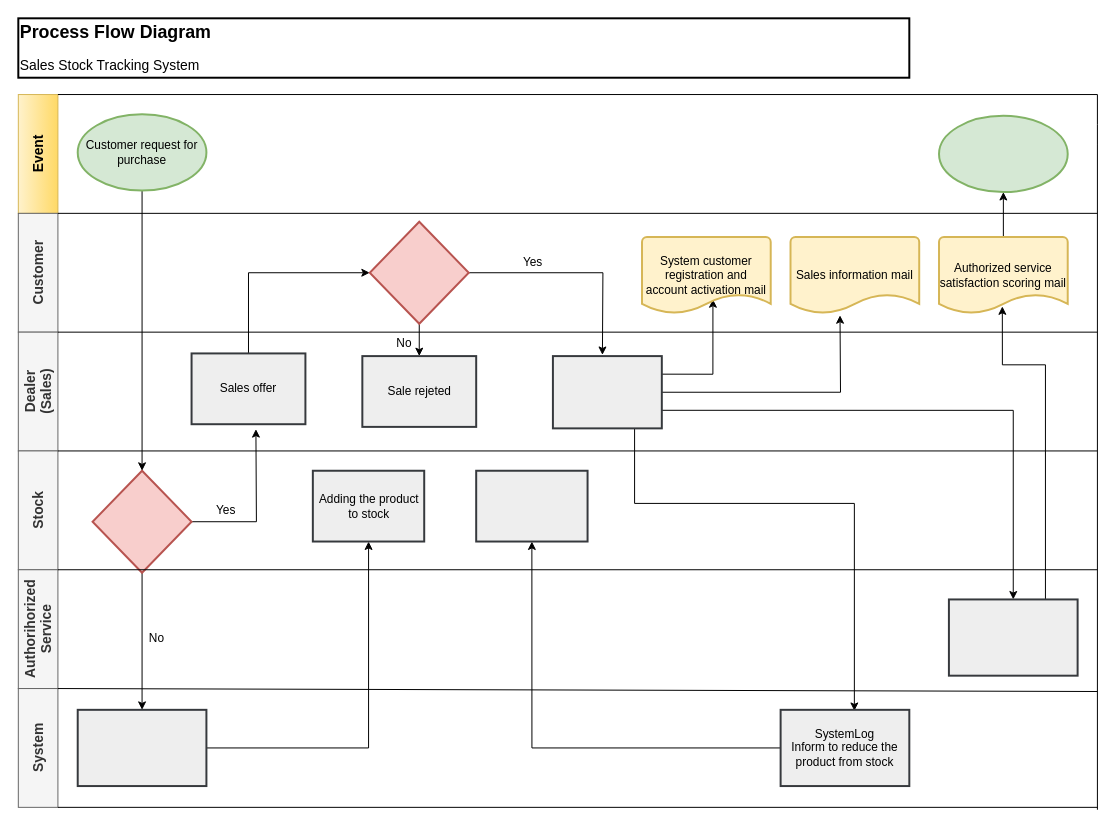
The diagram is 1116 pixels wide and 828 high, and some of its shapes have lost their labels. Each missing label, with the box of its shape:
Customer approval: (368, 220, 469, 324)
Finish: (938, 114, 1068, 193)
Installation of device: (947, 598, 1078, 676)
Sales: (551, 355, 662, 429)
Stock Control: (91, 469, 192, 573)
Subtracting the product from stock: (475, 469, 588, 542)
SystemLog Request to add the product to stock: (76, 708, 207, 787)
